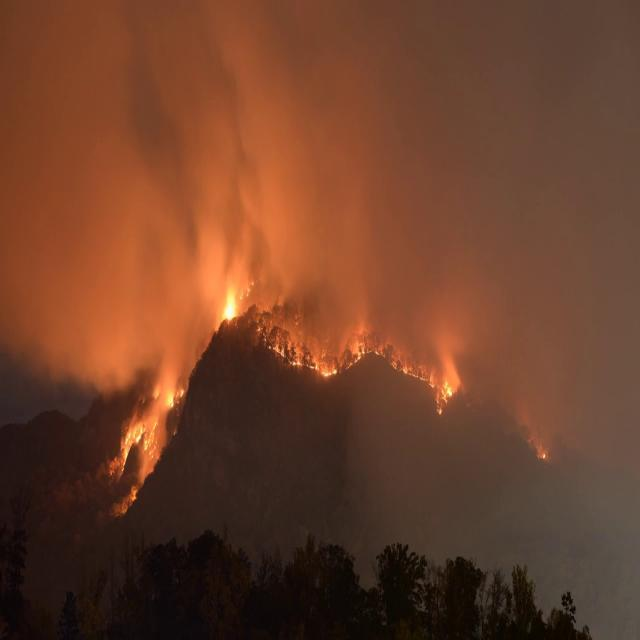Fire: (272, 343, 338, 379), (376, 348, 434, 386), (120, 416, 158, 459), (436, 375, 454, 420), (220, 288, 240, 326), (166, 387, 184, 409), (349, 348, 367, 368), (533, 446, 549, 462)
